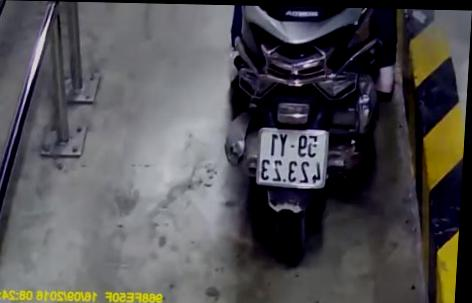License_Plate: (250, 128, 333, 191)
